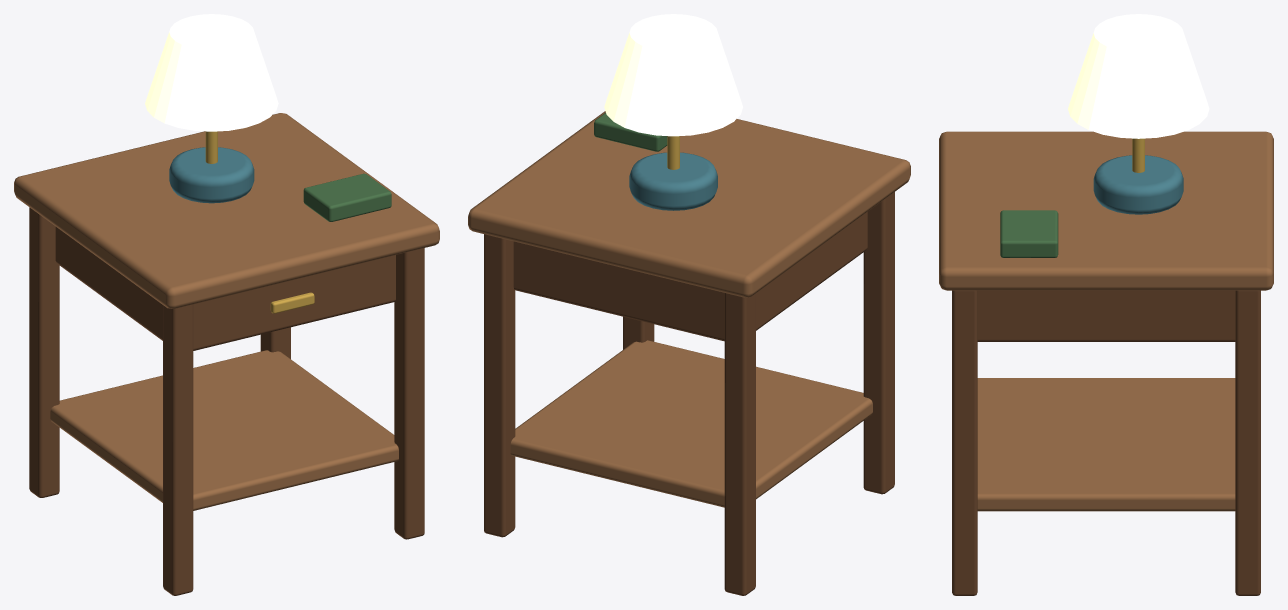
The model's file is end_table.glb.
3 views of the same model, side by side, from view 1: azimuth 30°, elevation 25°; view 2: azimuth 150°, elevation 25°; view 3: azimuth 270°, elevation 25° (orthographic). The views are drawn at different scales.
Parts seen in each view (by area): view 1: Cube, Cube.005, Cube.006, Cone, Cube.003, Cube.004, Cube.001, Cylinder, Cube.008, Cube.002, Cube.007; view 2: Cube, Cube.005, Cube.006, Cone, Cube.001, Cube.002, Cube.003, Cylinder, Cube.008, Cube.004; view 3: Cube, Cube.005, Cone, Cube.006, Cube.002, Cube.004, Cylinder, Cube.008, Cylinder.001.
Boxes of the visible parts, x1,y1,x2,y2 form: Cube: (14, 113, 439, 308); Cube.005: (50, 350, 398, 510); Cube.006: (55, 227, 395, 350); Cone: (145, 14, 278, 131); Cube.003: (163, 304, 193, 595); Cube.004: (394, 248, 424, 539); Cube.001: (29, 207, 59, 497); Cylinder: (169, 147, 254, 203); Cube.008: (303, 173, 391, 221); Cube.002: (260, 327, 290, 358); Cube.007: (270, 292, 314, 313); Cube: (468, 111, 910, 297); Cube.005: (510, 340, 872, 507); Cube.006: (513, 212, 867, 341); Cone: (604, 14, 742, 136); Cube.001: (724, 293, 755, 595); Cube.002: (484, 234, 515, 537); Cube.003: (863, 192, 894, 494); Cylinder: (629, 152, 717, 210); Cube.008: (594, 112, 667, 151); Cube.004: (623, 316, 654, 349); Cube: (939, 131, 1273, 290); Cube.005: (977, 378, 1235, 511); Cone: (1068, 14, 1209, 138); Cube.006: (977, 290, 1235, 341); Cube.002: (1235, 290, 1260, 595); Cube.004: (952, 290, 977, 595); Cylinder: (1093, 155, 1183, 214); Cube.008: (1000, 210, 1058, 257); Cylinder.001: (1132, 138, 1144, 172).
Bounding box in the file's own units: 0.52 × 0.855 × 0.52.
